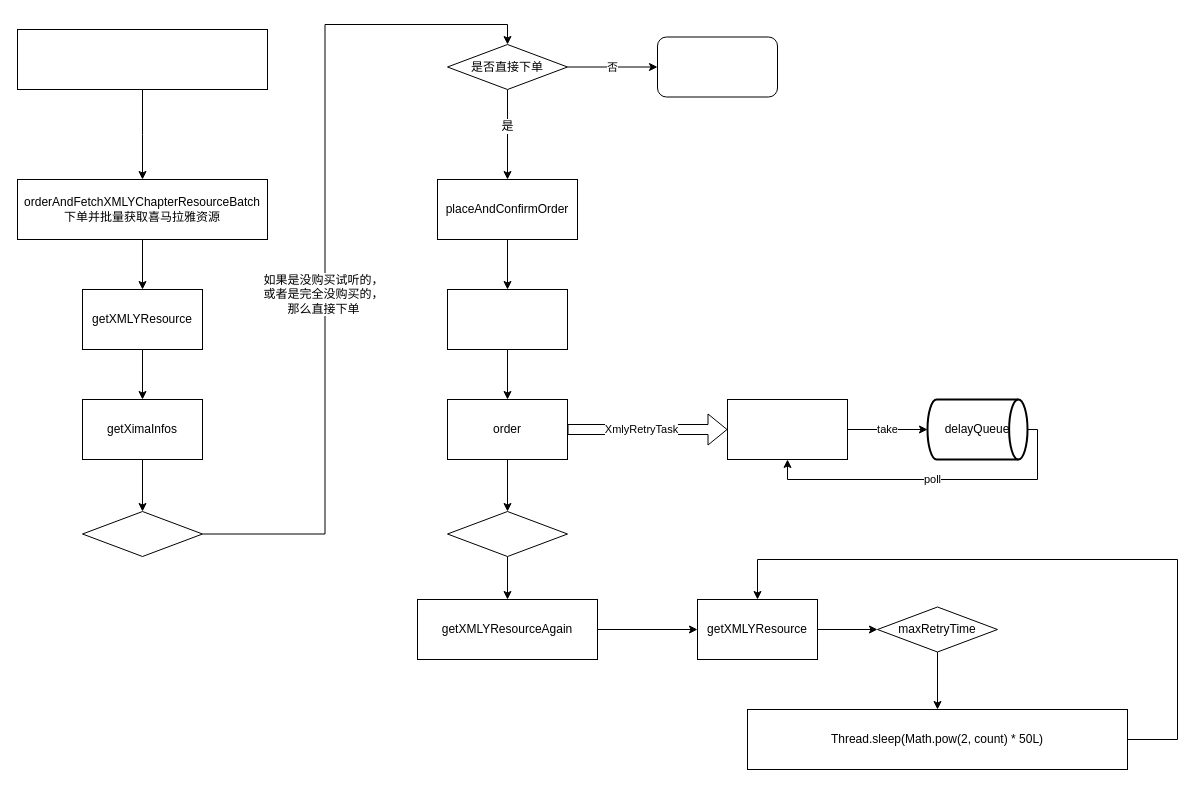
Some shapes in this 1203 by 787 pixel diagram are drawn without their labels. The centre of each missing label's shape, as x and y in pixels:
getAudioChapterResourceForXMLYBatch 批量获取喜马拉雅资源: (142,59)
orderWithRetry: (507,319)
retry: (787,429)
是否成功获取: (142,533)
结束: (717,66)
返回结果为空: (507,533)
